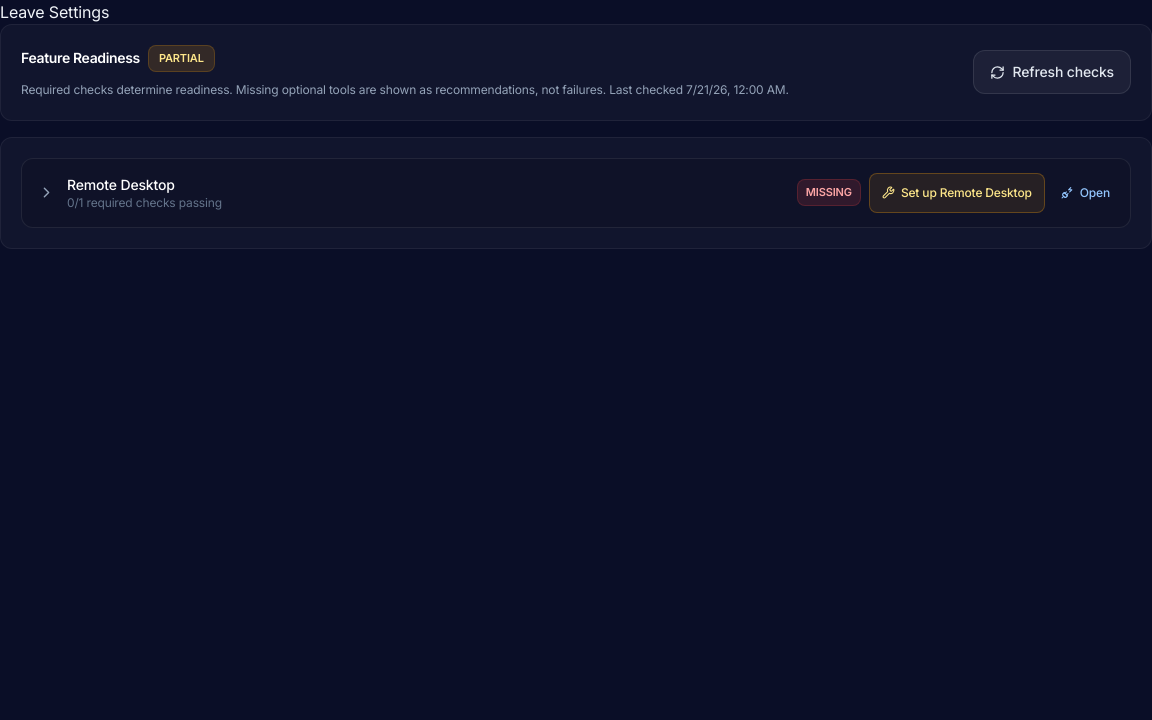
Test case: FeatureReadinessPanel owner setup admission › retains accepted setup when the exact target is missing and retries verification without another POST
The width and height of the screenshot is (1152, 720).
Click the button "Set up Remote Desktop" at (957, 192), box [869, 172, 1045, 212]
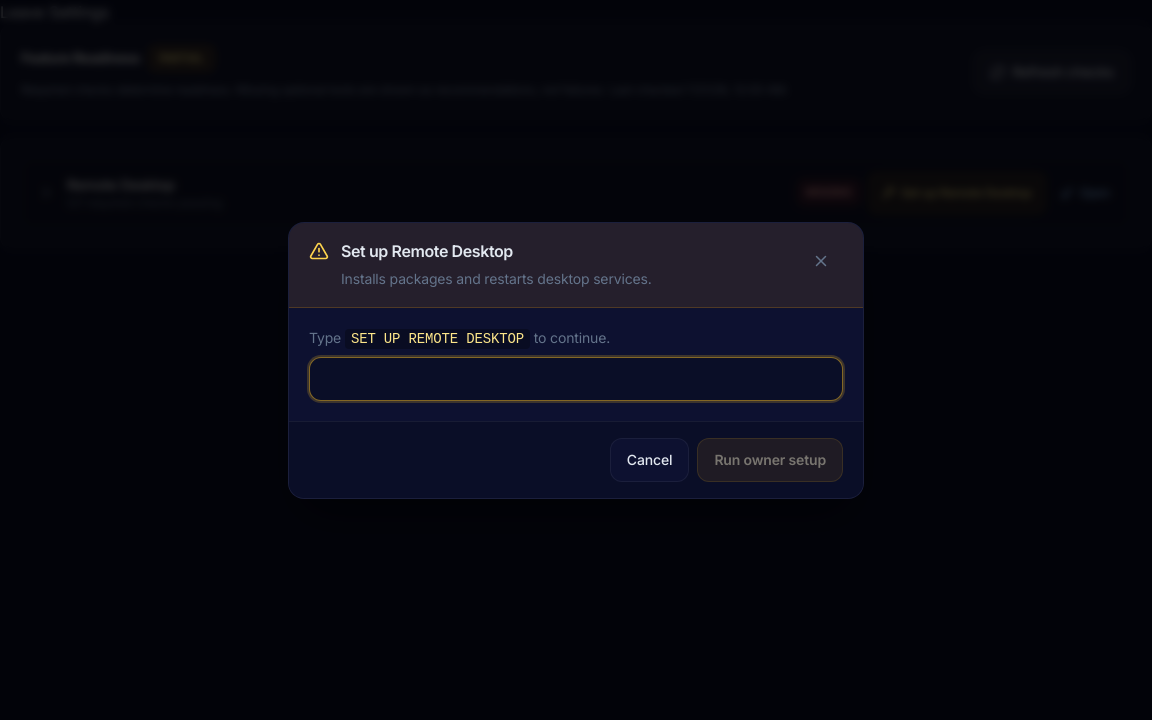
Type "SET UP REMOTE DESKTOP" into the field labelled "Type SET UP REMOTE DESKTOP to continue." at (576, 378), box [309, 356, 843, 400]
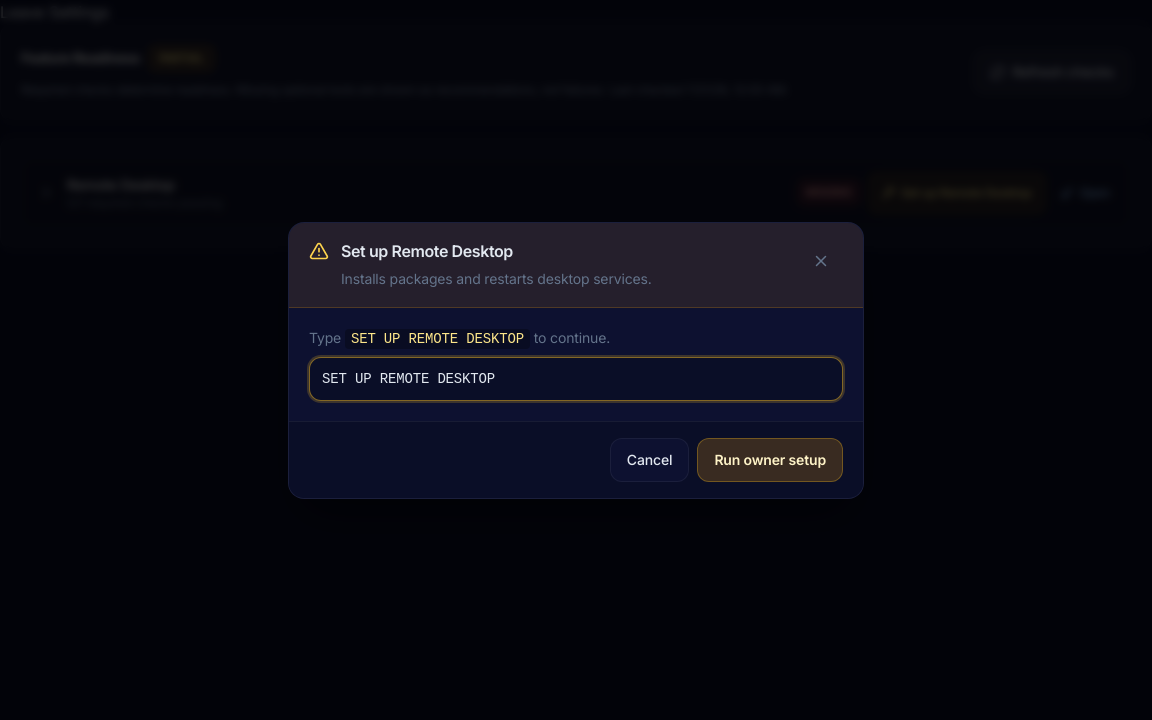
Click the button "Run owner setup" at (770, 460), box [697, 438, 843, 482]
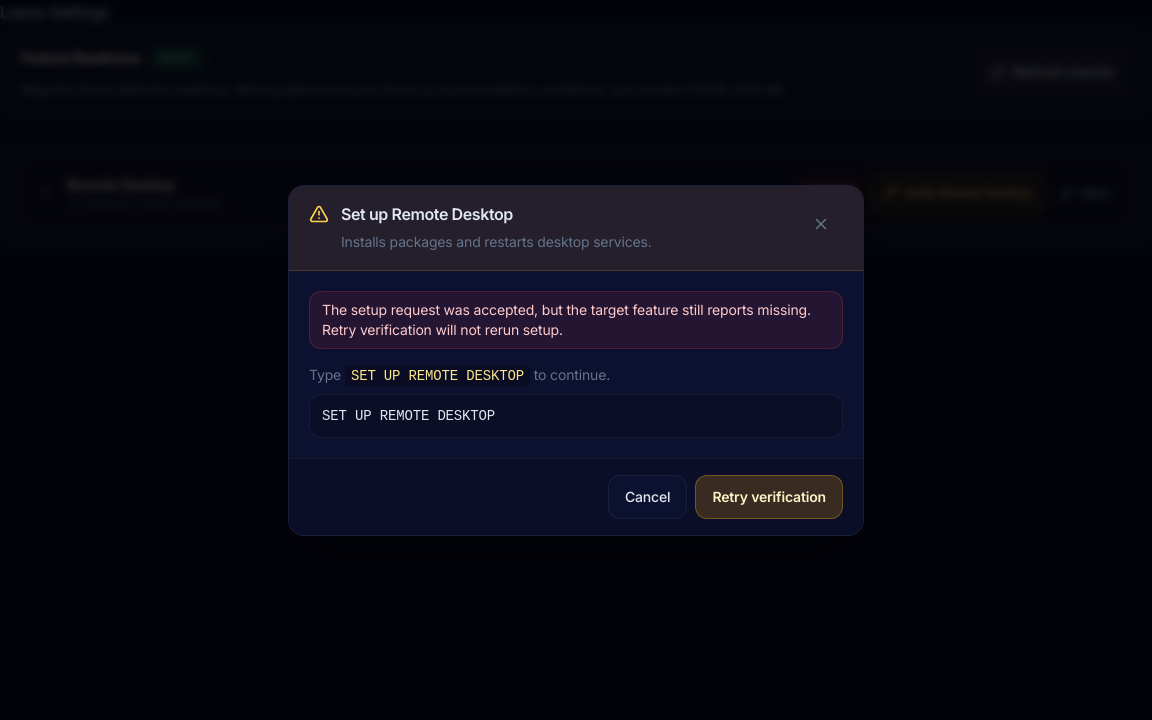
Now the button "Retry verification" is enabled
Click the button "Retry verification" at (769, 496), box [695, 474, 843, 518]
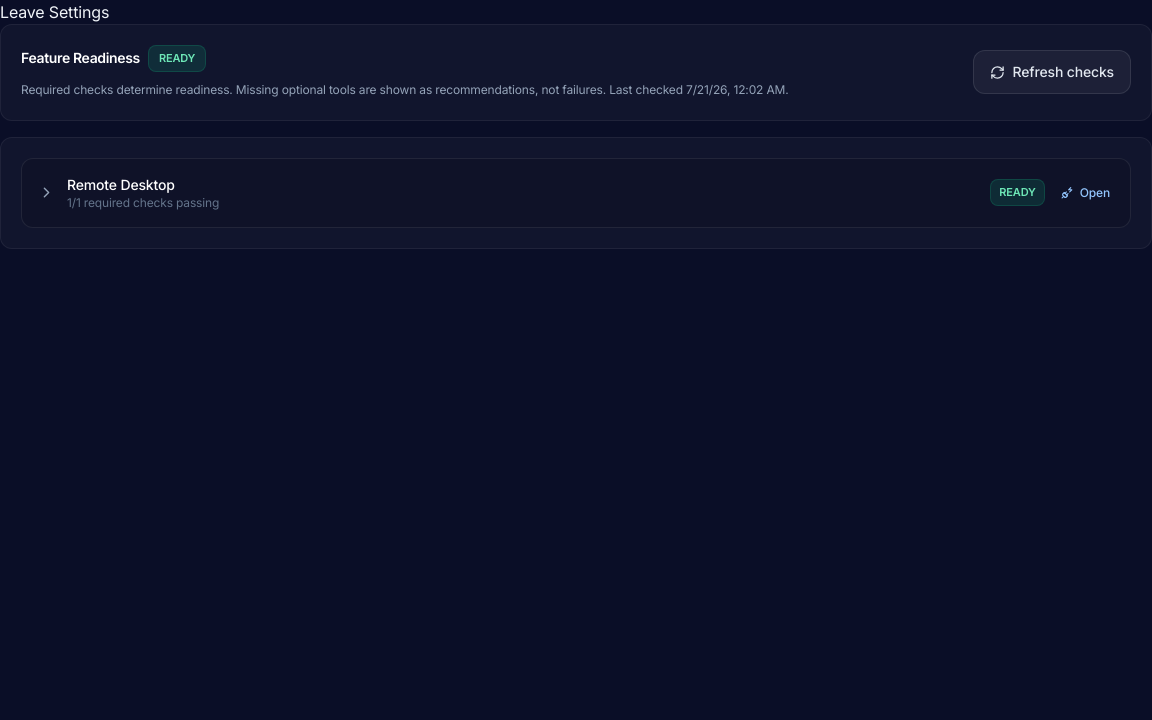
Now the heading "Set up Remote Desktop" is gone
